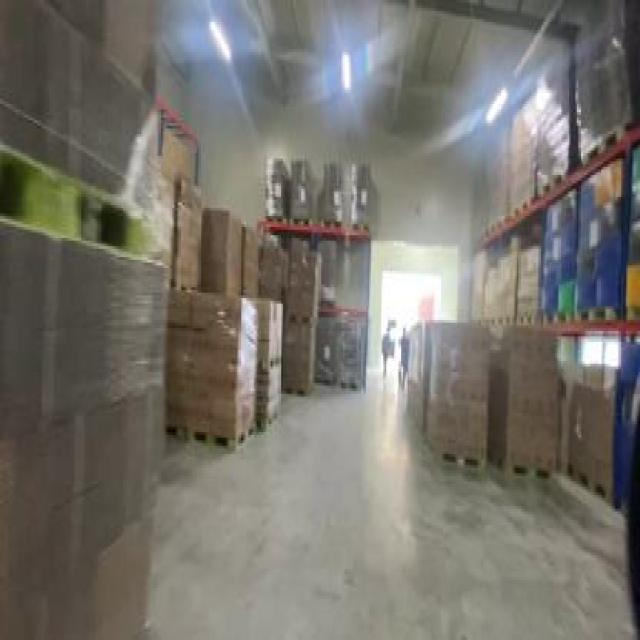box: (2, 3, 160, 621), (166, 287, 263, 446), (403, 314, 489, 468), (544, 158, 618, 322), (483, 320, 557, 473), (574, 14, 634, 148), (204, 210, 282, 312), (566, 356, 620, 495), (468, 243, 544, 323), (535, 60, 577, 178), (283, 246, 314, 394), (175, 180, 212, 296), (252, 301, 286, 421), (472, 134, 514, 222), (508, 110, 535, 210), (337, 312, 360, 394), (318, 159, 344, 224), (288, 159, 312, 227), (314, 235, 334, 312), (349, 161, 371, 230), (317, 312, 337, 383), (266, 158, 289, 218)
person: (395, 326, 408, 396), (380, 325, 391, 383)
